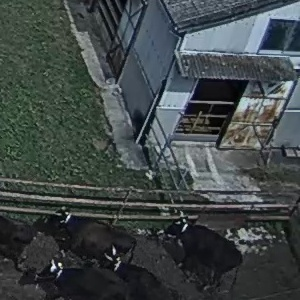cow: (158, 209, 260, 276), (36, 205, 143, 252), (23, 253, 99, 300), (101, 245, 148, 300)
